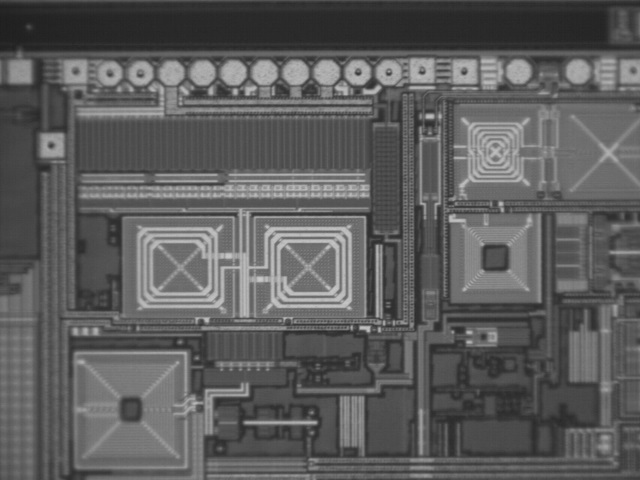normal: (373, 57, 402, 86), (407, 55, 436, 84), (449, 56, 478, 85), (61, 57, 88, 86), (96, 58, 123, 87), (125, 58, 152, 87), (344, 57, 371, 86), (36, 130, 63, 159), (617, 56, 639, 85)
